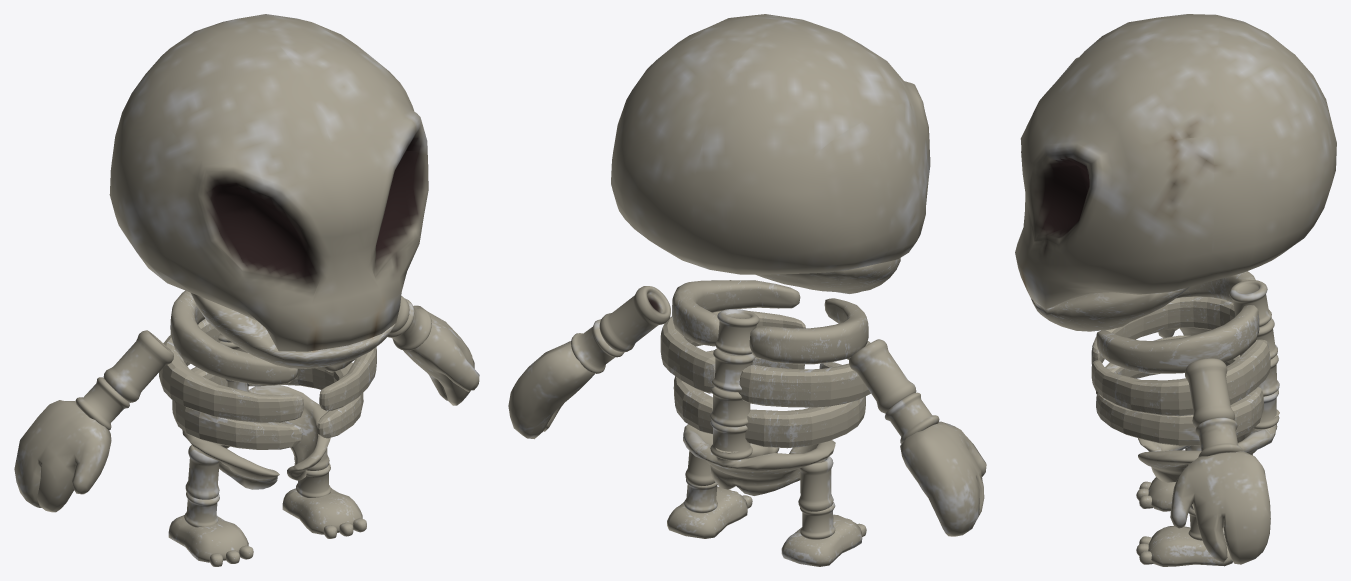
File: Skeleton.fbx
The picture shows the model from 3 angles, left to right: view 1: azimuth 30°, elevation 25°; view 2: azimuth 150°, elevation 25°; view 3: azimuth 270°, elevation 25°; orthographic projection.
Parts seen in each view (by area): view 1: Cube, Object001, Cube.004, Cube.005, Cube.003, Cube.001, Cylinder.001, Cylinder.002, Cylinder.004, Cylinder.003, Cube.006; view 2: Cube, Object001, Cube.004, Cylinder.001, Cylinder, Cube.003, Cube.005, Cylinder.002, Cube.001, Cylinder.003, Cylinder.004; view 3: Cube, Object001, Cube.004, Cube.001, Cube.005, Cylinder, Cylinder.001, Cube.003, Cylinder.002, Cube.006.
Part boxes in pixels (box(x1,y1,x2,y2)): Cube: box(109, 14, 428, 351); Object001: box(159, 290, 376, 449); Cube.004: box(14, 305, 479, 512); Cube.005: box(168, 488, 362, 562); Cube.003: box(182, 385, 330, 489); Cube.001: box(190, 292, 394, 368); Cylinder.001: box(103, 296, 409, 402); Cylinder.002: box(75, 298, 431, 430); Cylinder.004: box(184, 463, 331, 527); Cylinder.003: box(185, 445, 329, 499); Cube.006: box(209, 518, 366, 566); Cube: box(611, 14, 930, 274); Object001: box(660, 280, 870, 448); Cube.004: box(508, 341, 986, 536); Cylinder.001: box(599, 286, 916, 413); Cylinder: box(710, 309, 759, 460); Cube.003: box(683, 424, 835, 495); Cube.005: box(667, 486, 862, 566); Cylinder.002: box(571, 319, 939, 443); Cube.001: box(756, 258, 900, 293); Cylinder.003: box(685, 451, 833, 511); Cylinder.004: box(684, 479, 835, 539); Cube: box(1015, 14, 1336, 308); Object001: box(1091, 271, 1270, 445); Cube.004: box(1158, 328, 1270, 564); Cube.001: box(1031, 287, 1189, 331); Cube.005: box(1148, 477, 1232, 566); Cylinder: box(1229, 280, 1279, 429); Cylinder.001: box(1185, 358, 1234, 427); Cube.003: box(1138, 409, 1279, 482); Cylinder.002: box(1195, 417, 1243, 457); Cube.006: box(1136, 481, 1153, 564).
Bounding box in the file's own units: 48.5 × 51.02 × 29.97.
